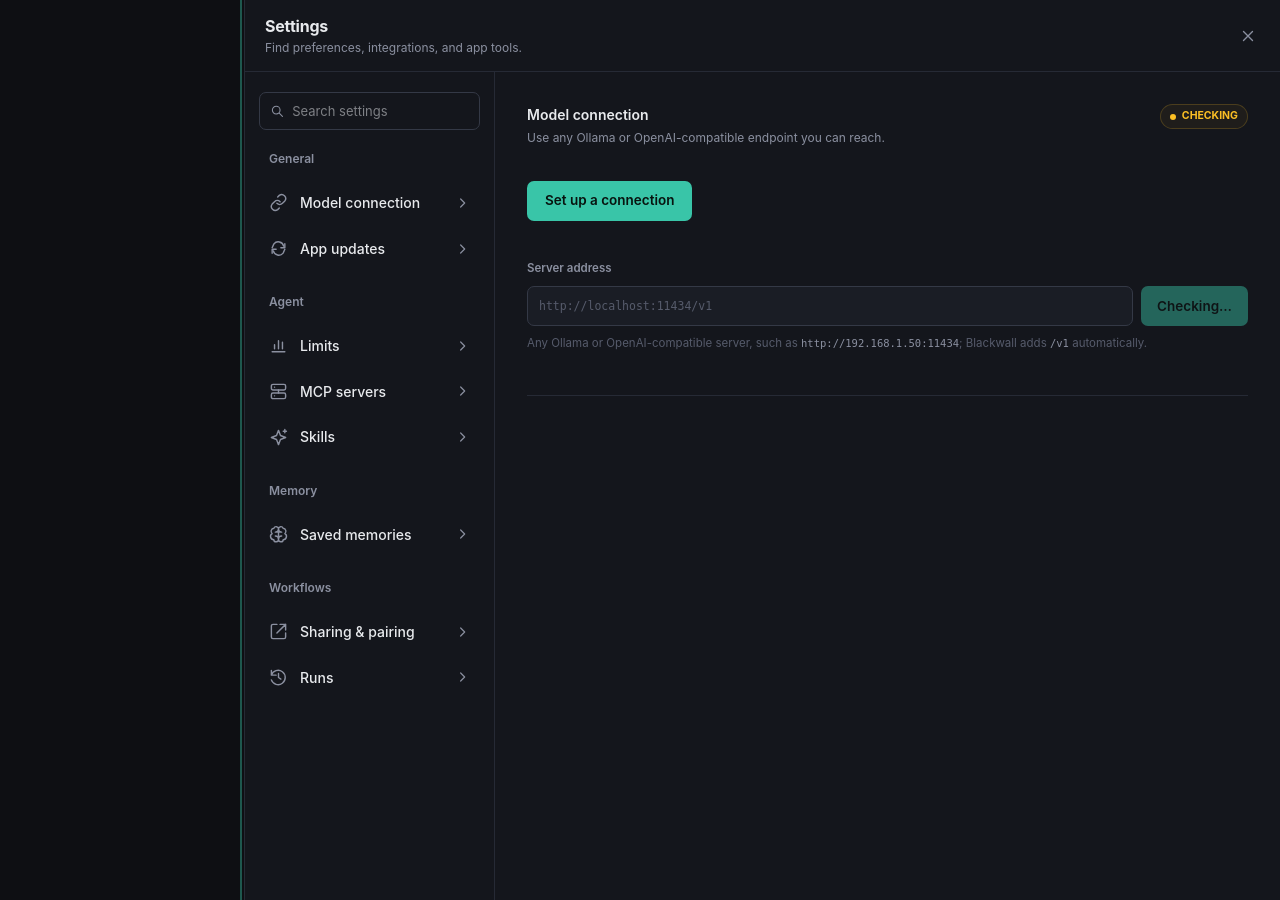
SettingsDialog › filters by related terms and category, and explains an empty result
Type "  TOOLS  " into the search field labelled "Search settings" at (381, 111), box [292, 93, 469, 129]
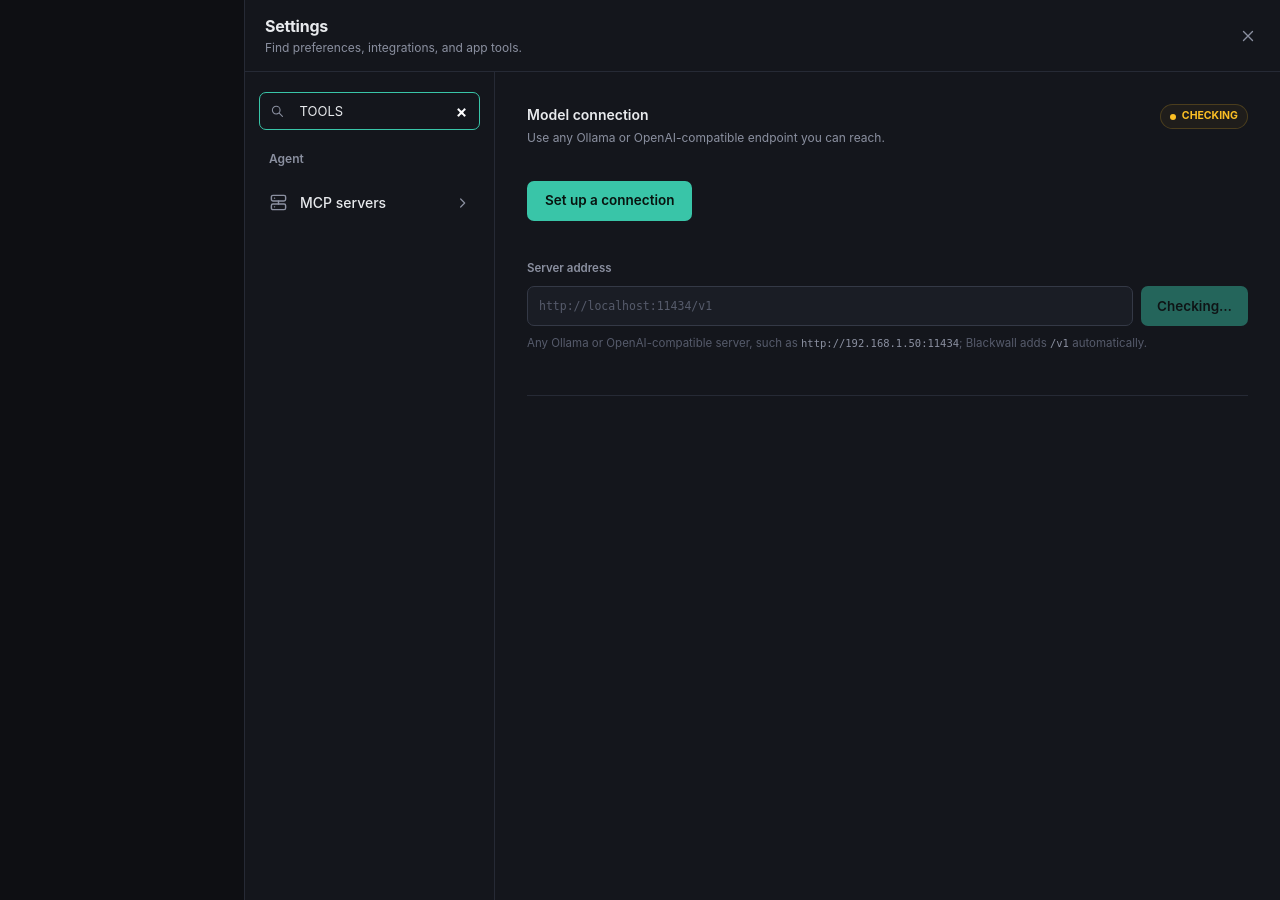
Check: the button "MCP servers" is shown, box [259, 180, 480, 226]
Replace the text in the search field named "Search settings" with "workflows" at (381, 111), box [292, 93, 469, 129]
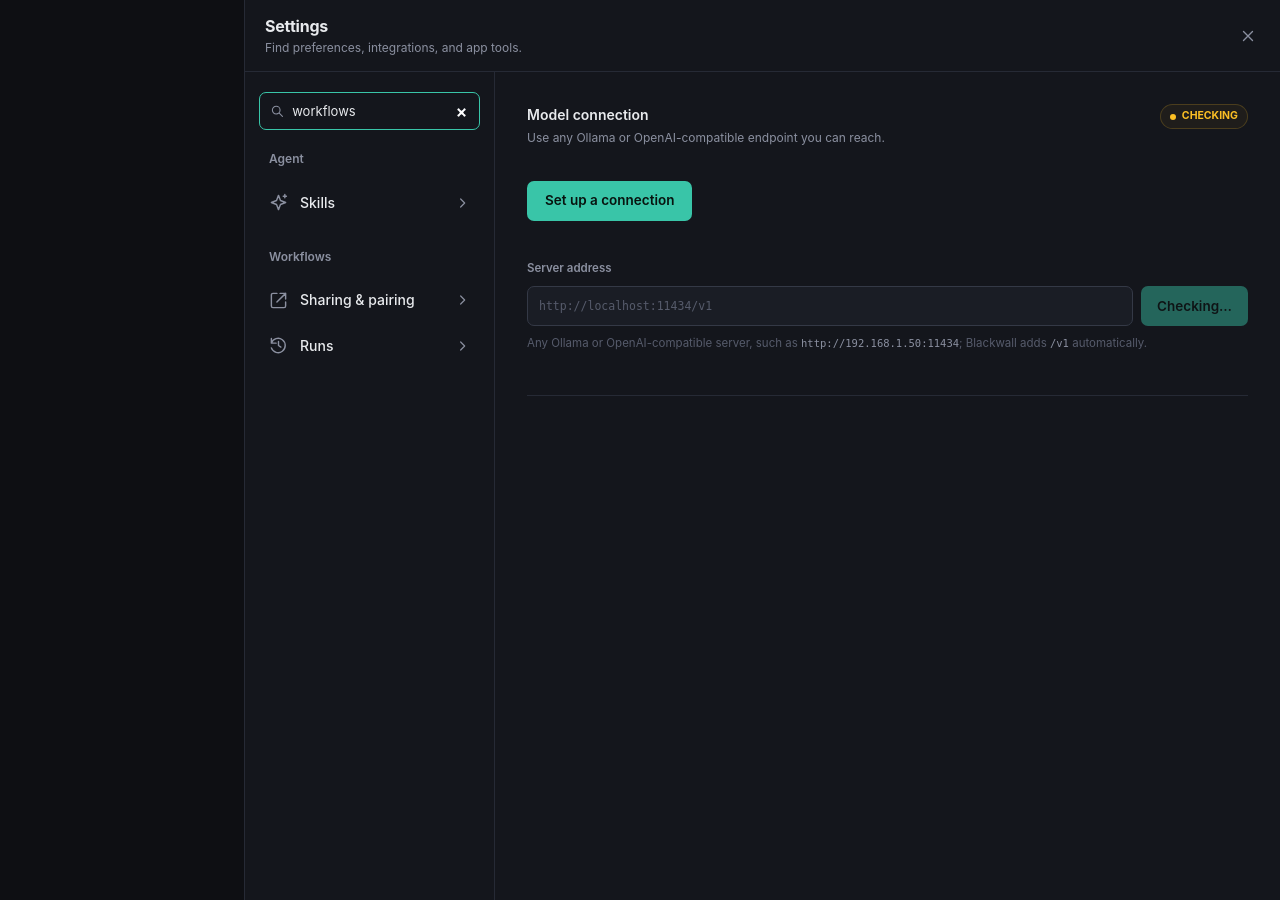
Replace the text in the search field named "Search settings" with "nothing matches" at (381, 111), box [292, 93, 469, 129]
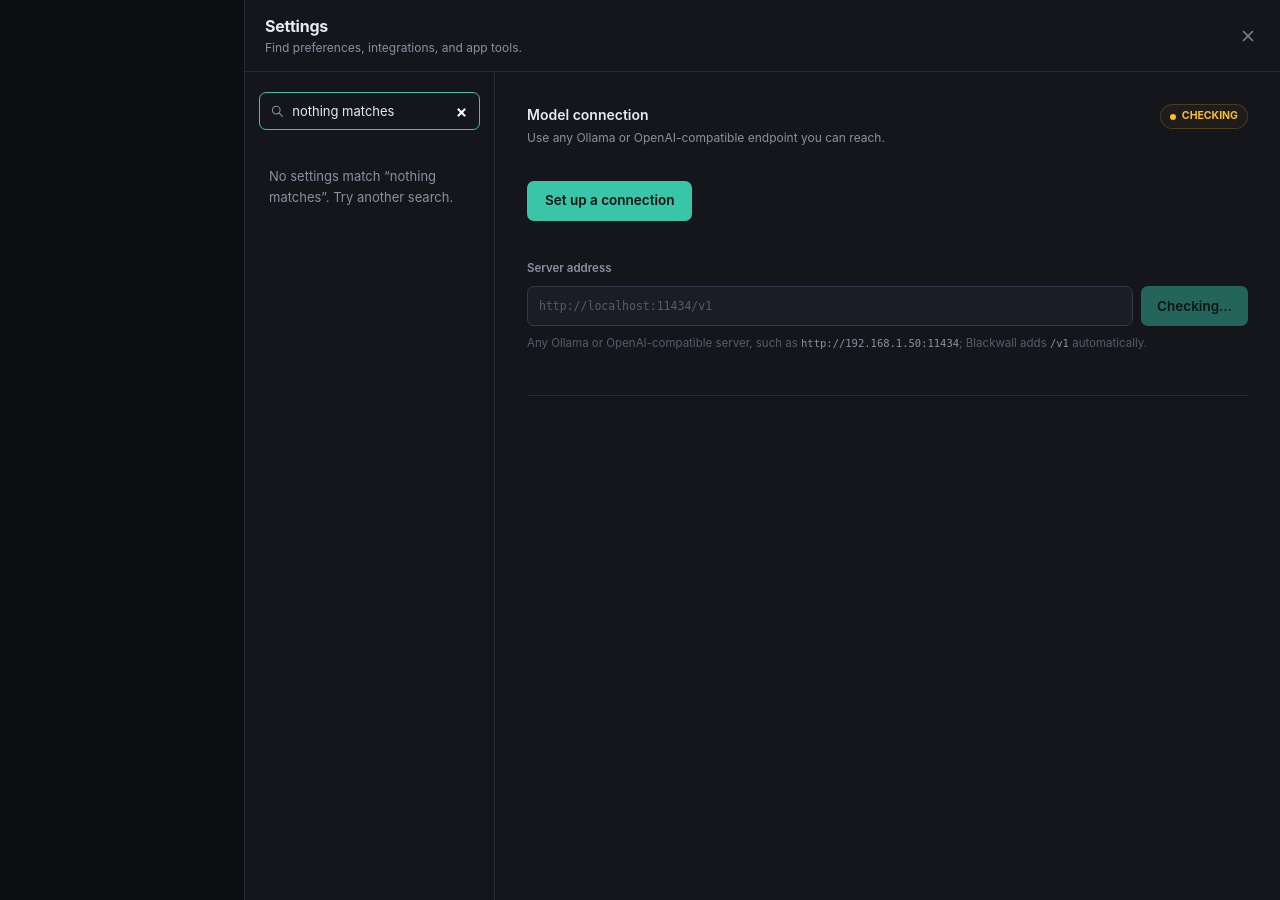
Check: no the button "Model connection" are shown
Check: the message shows "No settings match", box [269, 168, 453, 205]
Clear the search field named "Search settings" at (381, 111), box [292, 93, 469, 129]
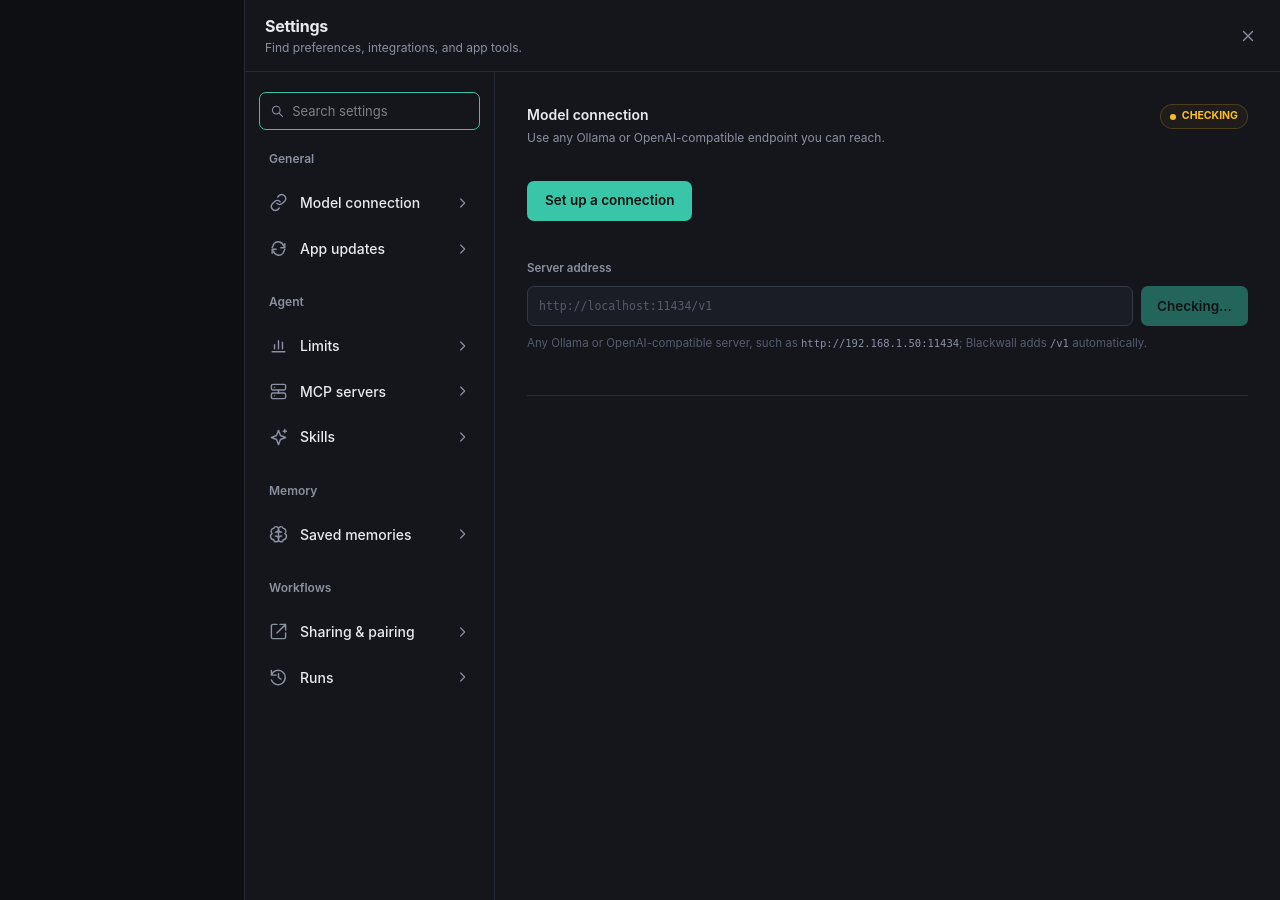
Check: the button "Runs" is shown, box [259, 655, 480, 700]
